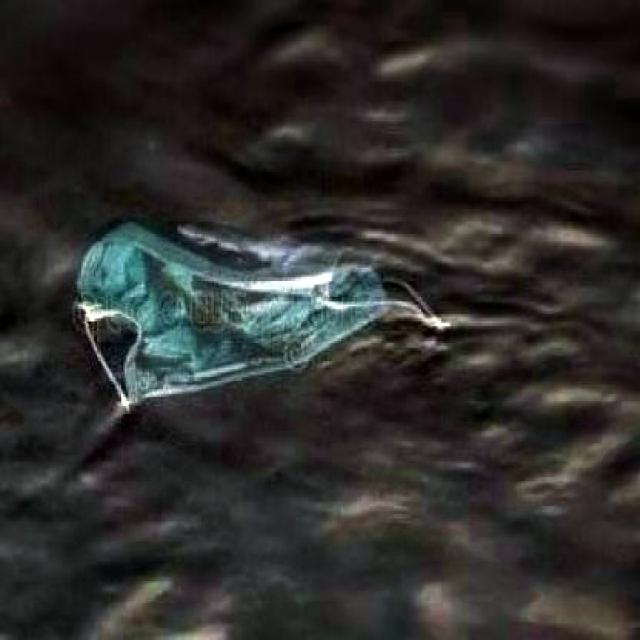Mask: (69, 204, 446, 424)
